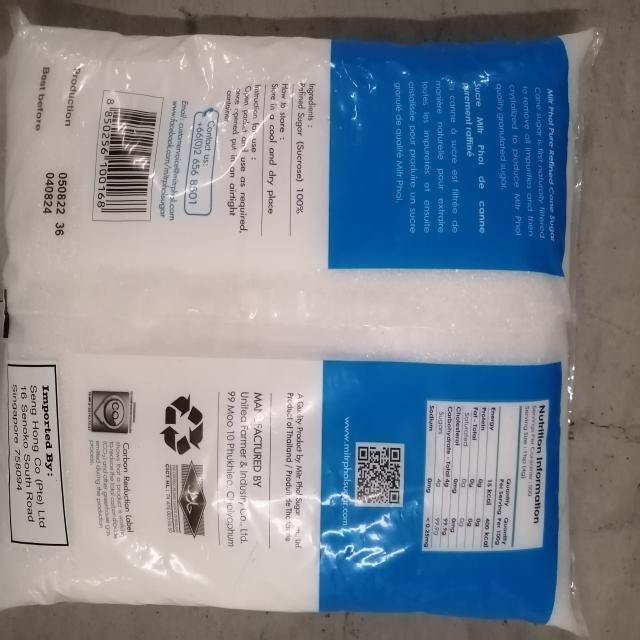object_name: (12, 30, 566, 611)
